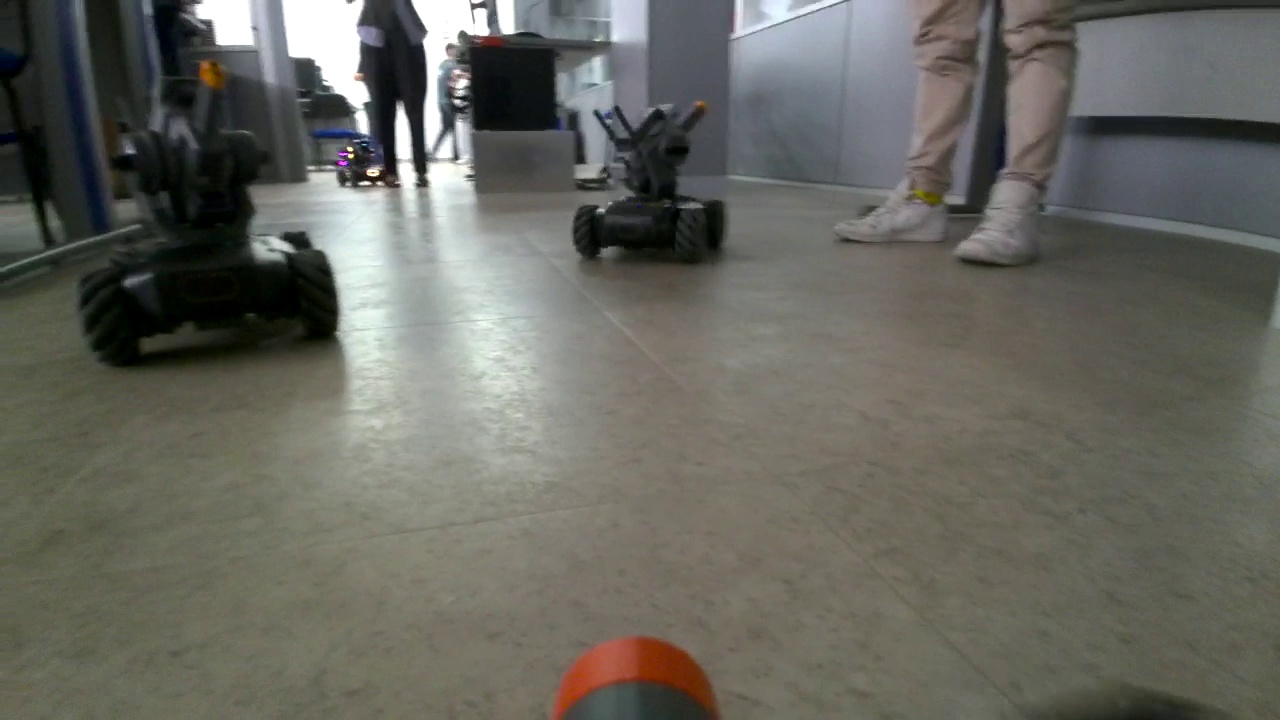robot: (76, 74, 339, 368), (569, 95, 728, 263), (338, 132, 385, 190)
